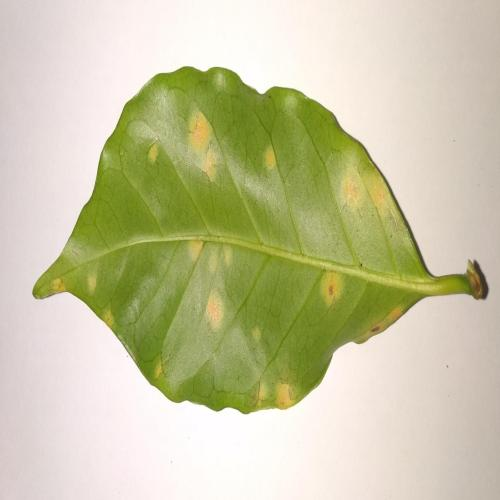phoma: (190, 113, 210, 150)
